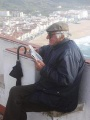male: (44, 25, 71, 55)
